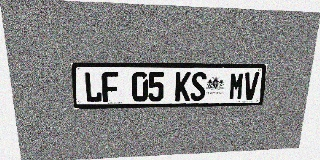0: (132, 72, 148, 102)
5: (148, 72, 164, 101)
F: (101, 72, 119, 102)
K: (175, 72, 191, 101)
L: (83, 72, 102, 103)
M: (228, 72, 245, 100)
S: (190, 72, 206, 101)
V: (243, 72, 259, 100)
